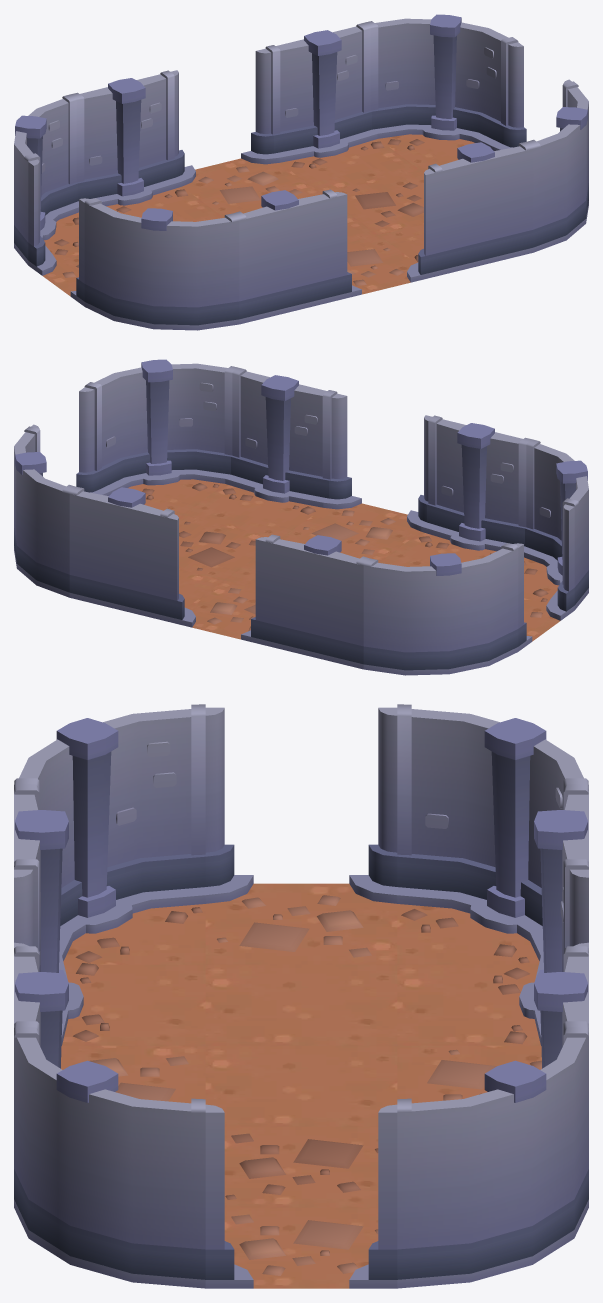
Rendered from kenney-modular-dungeon-room-wide.glb.
3 renders of one model, top to bottom at view 1: azimuth 30°, elevation 25°; view 2: azimuth 150°, elevation 25°; view 3: azimuth 270°, elevation 25°, orthographic. The views are drawn at different scales.
Visible parts, largest first — view 1: room-wide; view 2: room-wide; view 3: room-wide.
Part boxes in pixels (<box>): room-wide: <box>14,14,588,330</box>; room-wide: <box>14,359,588,675</box>; room-wide: <box>14,704,588,1288</box>.
Size of the model in its own units: 20 by 4.23 by 12.
Materials: 1 (1 with a texture image).
